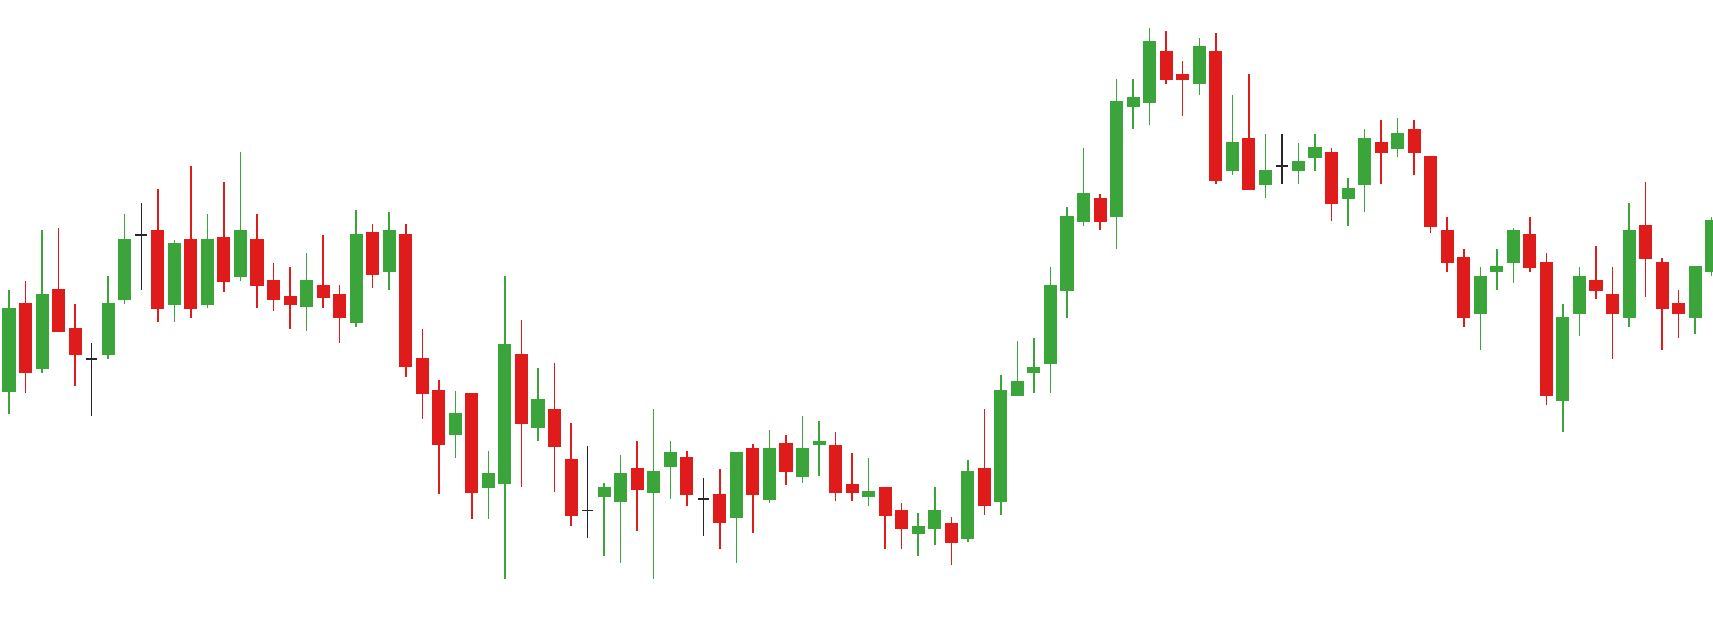buy: (1455, 259, 1572, 436)
